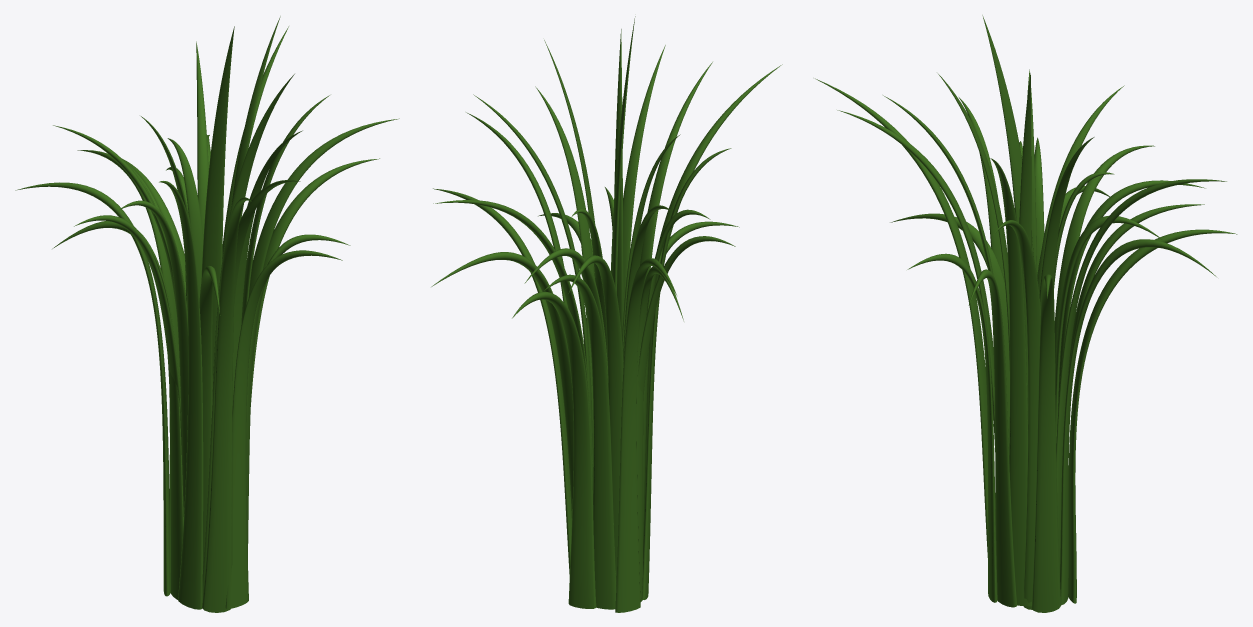
File: grass.fbx
The picture shows the model from 3 angles, left to right: view 1: azimuth 30°, elevation 25°; view 2: azimuth 150°, elevation 25°; view 3: azimuth 270°, elevation 25°; orthographic projection. The views are drawn at different scales.
Visible parts, largest first — view 1: NurbsPath.025, NurbsPath.015, NurbsPath.026, NurbsPath.011, NurbsPath.014, NurbsPath.021, NurbsPath.002, NurbsPath.012, NurbsPath.013, NurbsPath.020, NurbsPath.017, NurbsPath.023 (+11 smaller); view 2: NurbsPath.024, NurbsPath.021, NurbsPath.001, NurbsPath.017, NurbsPath.022, NurbsPath.023, NurbsPath.015, NurbsPath.014, NurbsPath.004, NurbsPath.016, NurbsPath.006, NurbsPath.025 (+12 smaller); view 3: NurbsPath.023, NurbsPath.006, NurbsPath.018, NurbsPath.013, NurbsPath.024, NurbsPath.022, NurbsPath.025, NurbsPath.016, NurbsPath.026, NurbsPath.019, NurbsPath.021, NurbsPath.007 (+13 smaller).
Part boxes in pixels (left/top/right/bottom): NurbsPath.025: left=202, top=197, right=251, bottom=612; NurbsPath.015: left=159, top=181, right=203, bottom=609; NurbsPath.026: left=225, top=250, right=342, bottom=608; NurbsPath.011: left=201, top=26, right=234, bottom=386; NurbsPath.014: left=52, top=221, right=183, bottom=599; NurbsPath.021: left=15, top=182, right=170, bottom=596; NurbsPath.002: left=199, top=266, right=220, bottom=568; NurbsPath.012: left=118, top=200, right=203, bottom=573; NurbsPath.013: left=248, top=118, right=399, bottom=297; NurbsPath.020: left=74, top=215, right=181, bottom=454; NurbsPath.017: left=77, top=150, right=180, bottom=572; NurbsPath.023: left=250, top=158, right=379, bottom=406; NurbsPath.024: left=512, top=291, right=596, bottom=608; NurbsPath.021: left=615, top=258, right=676, bottom=612; NurbsPath.001: left=544, top=274, right=616, bottom=609; NurbsPath.017: left=568, top=255, right=623, bottom=581; NurbsPath.022: left=431, top=252, right=573, bottom=517; NurbsPath.023: left=433, top=188, right=571, bottom=574; NurbsPath.015: left=641, top=148, right=731, bottom=599; NurbsPath.014: left=636, top=266, right=683, bottom=601; NurbsPath.004: left=623, top=45, right=665, bottom=310; NurbsPath.016: left=433, top=200, right=593, bottom=493; NurbsPath.006: left=535, top=86, right=594, bottom=466; NurbsPath.025: left=643, top=64, right=782, bottom=524; NurbsPath.023: left=1032, top=274, right=1061, bottom=612; NurbsPath.006: left=990, top=158, right=1031, bottom=606; NurbsPath.018: left=968, top=269, right=1017, bottom=607; NurbsPath.013: left=994, top=220, right=1040, bottom=609; NurbsPath.024: left=1068, top=229, right=1237, bottom=603; NurbsPath.022: left=1060, top=239, right=1216, bottom=604; NurbsPath.025: left=815, top=78, right=995, bottom=557; NurbsPath.016: left=1056, top=179, right=1226, bottom=573; NurbsPath.026: left=907, top=253, right=997, bottom=602; NurbsPath.019: left=837, top=110, right=995, bottom=451; NurbsPath.021: left=1054, top=145, right=1154, bottom=362; NurbsPath.007: left=1019, top=73, right=1031, bottom=424.
Size of the model in its own units: 224 by 403 by 267.
